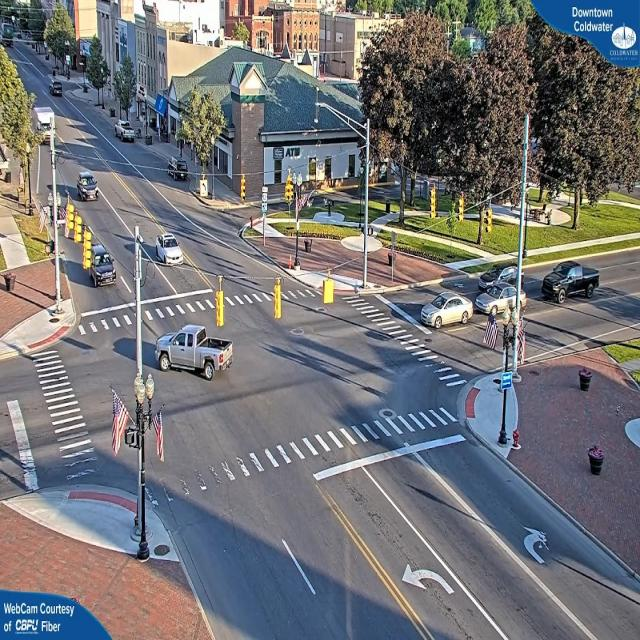car: (154, 324, 234, 382), (542, 262, 601, 300), (474, 284, 528, 316), (421, 298, 469, 328), (478, 257, 520, 290), (89, 250, 116, 286), (154, 233, 183, 264), (77, 173, 101, 202), (116, 124, 136, 143)
